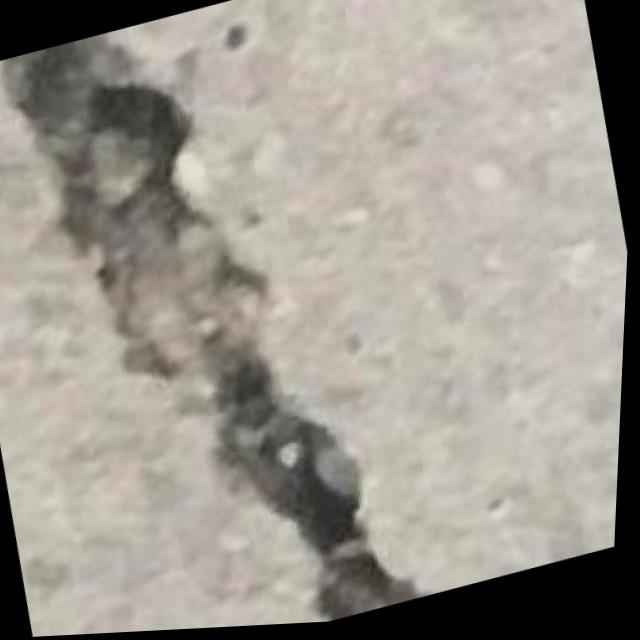Crack: (0, 0, 453, 640)
